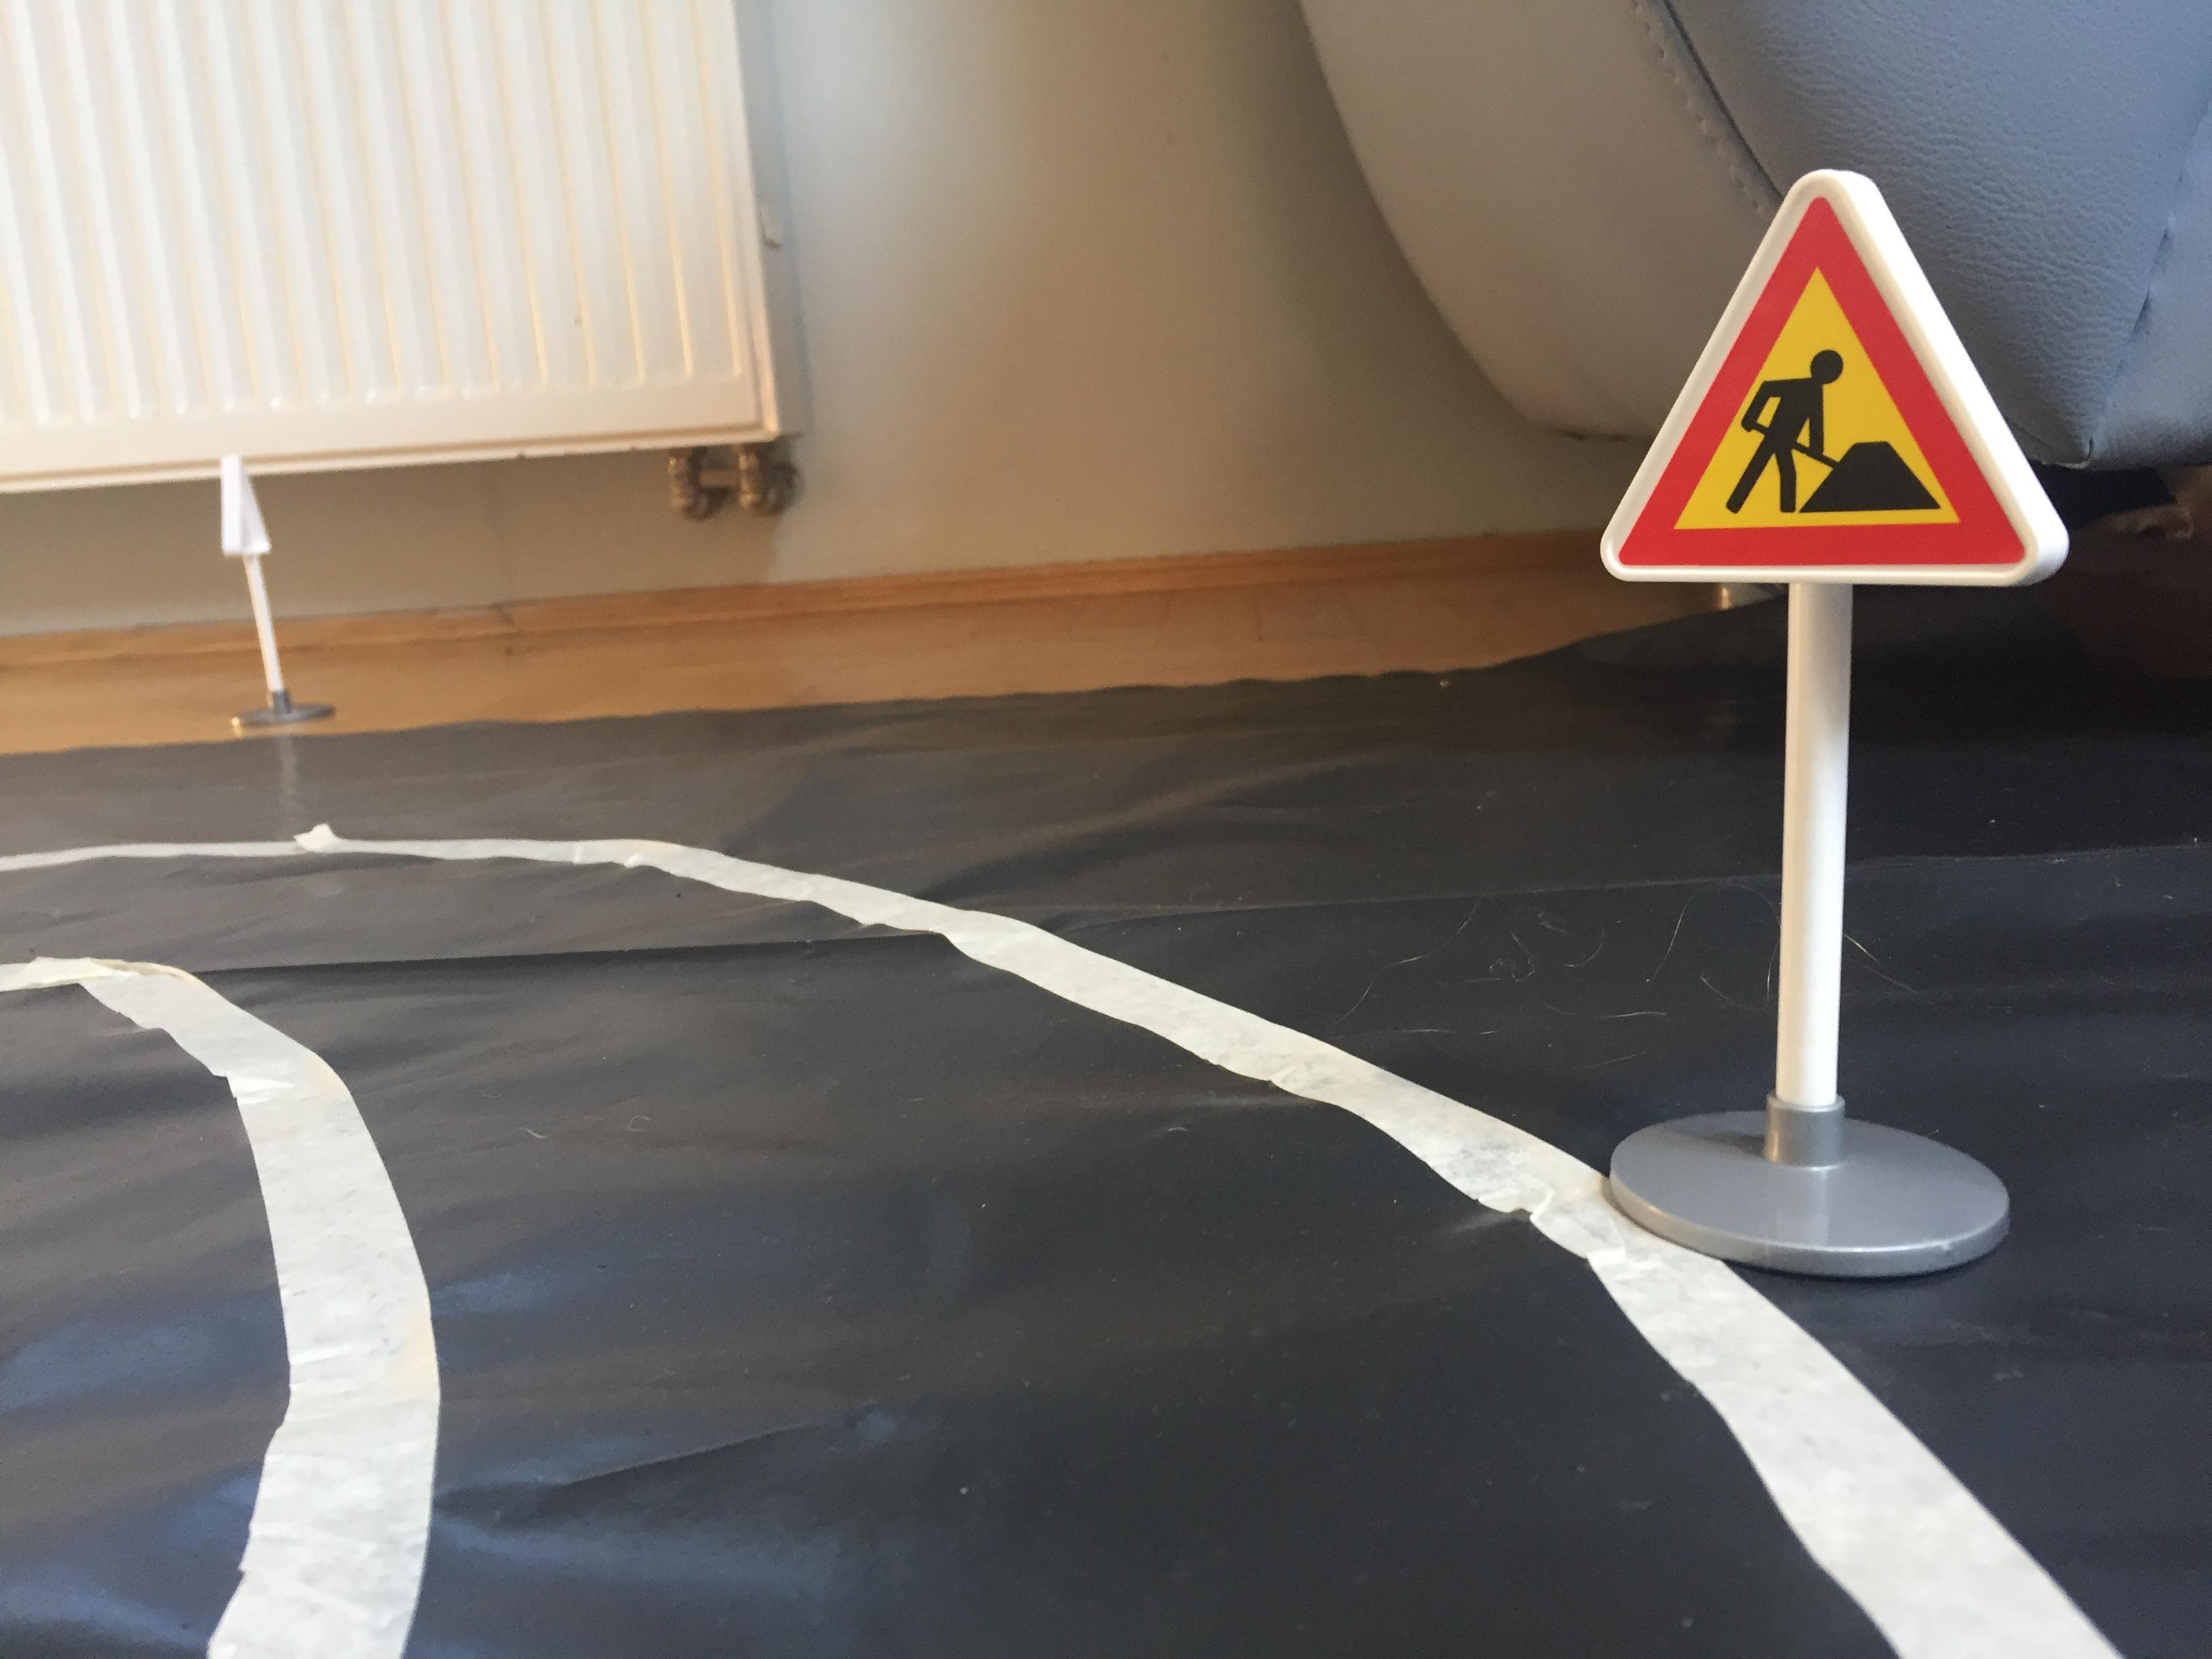work: (1594, 155, 2073, 599)
